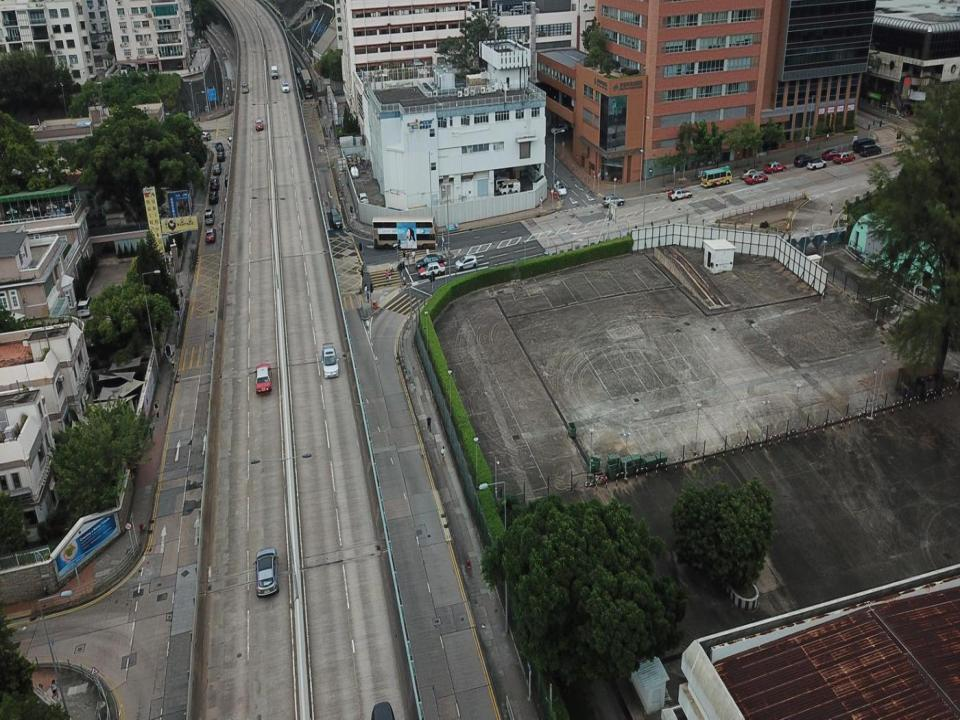bus: (372, 215, 438, 249), (699, 166, 734, 186)
car: (253, 548, 278, 599), (322, 342, 340, 379), (255, 361, 272, 396), (418, 261, 444, 277), (415, 254, 443, 268), (454, 254, 477, 270), (763, 160, 787, 174), (667, 187, 692, 200), (744, 172, 768, 185), (833, 151, 856, 164), (602, 194, 624, 207), (740, 167, 762, 179), (794, 156, 812, 168), (808, 159, 826, 170), (822, 148, 839, 159), (554, 181, 566, 195), (205, 228, 216, 242), (254, 118, 264, 131), (216, 149, 226, 162), (212, 162, 222, 174), (349, 164, 359, 176), (215, 142, 224, 152), (242, 83, 249, 94), (282, 82, 289, 92), (296, 65, 301, 73)
van: (492, 175, 517, 192), (499, 180, 521, 196), (329, 207, 344, 229), (852, 137, 875, 150), (860, 144, 882, 156), (302, 78, 313, 98), (196, 130, 211, 142), (204, 208, 215, 224), (358, 192, 368, 206), (208, 191, 218, 205), (209, 178, 220, 190), (271, 65, 278, 79)
